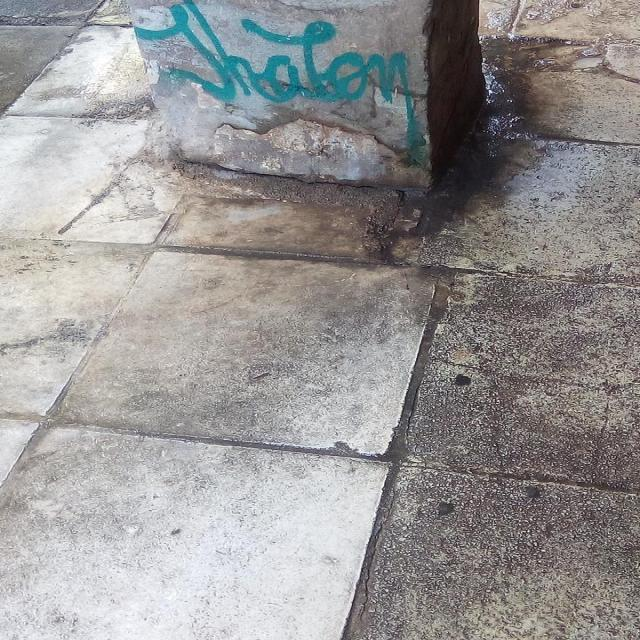nonspitting: (138, 0, 422, 161)
